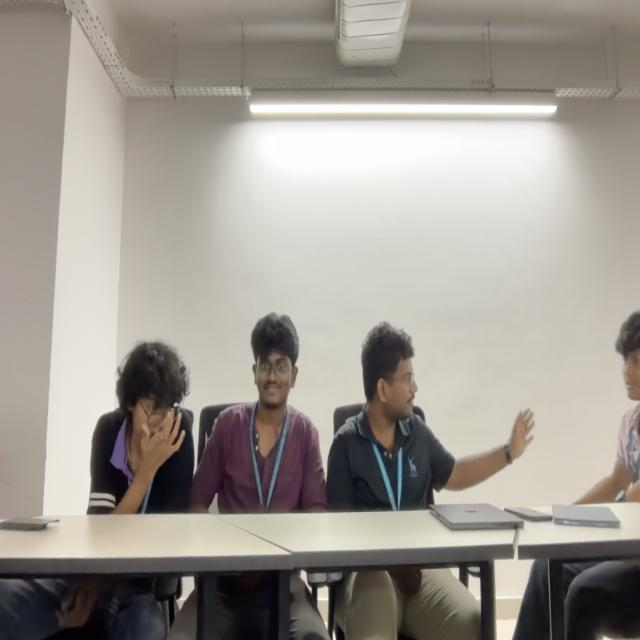Isolated: (571, 315, 640, 503)
socializing: (90, 314, 535, 518)
